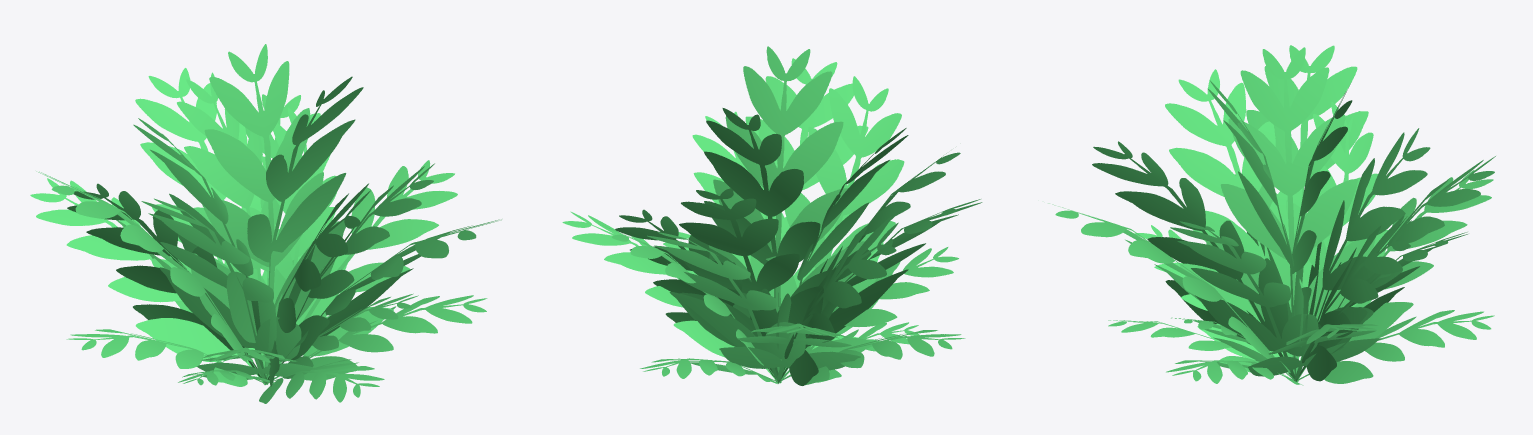
The model's file is Bush3.fbx.
3 renders of one model, left to right at view 1: azimuth 30°, elevation 25°; view 2: azimuth 150°, elevation 25°; view 3: azimuth 270°, elevation 25°, orthographic. The views are drawn at different scales.
Visible parts, largest first — view 1: Bush 3; view 2: Bush 3; view 3: Bush 3.
Boxes of the visible parts, left/top/right/bottom form: Bush 3: left=30, top=44, right=501, bottom=403; Bush 3: left=562, top=46, right=982, bottom=385; Bush 3: left=1048, top=45, right=1495, bottom=385.
Size of the model in its own units: 196 by 158 by 193.
